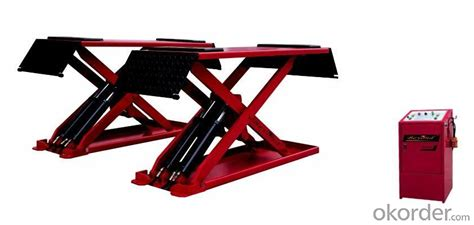Scissor Lift: (17, 36, 340, 197)
